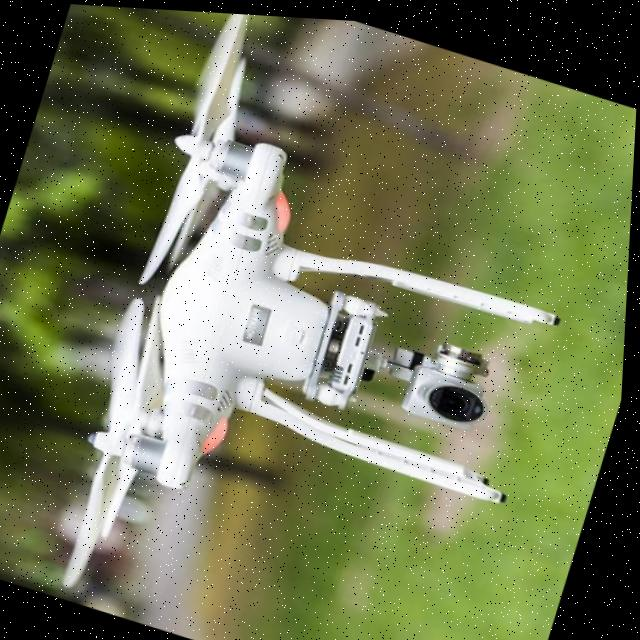drones: (0, 1, 640, 640)
